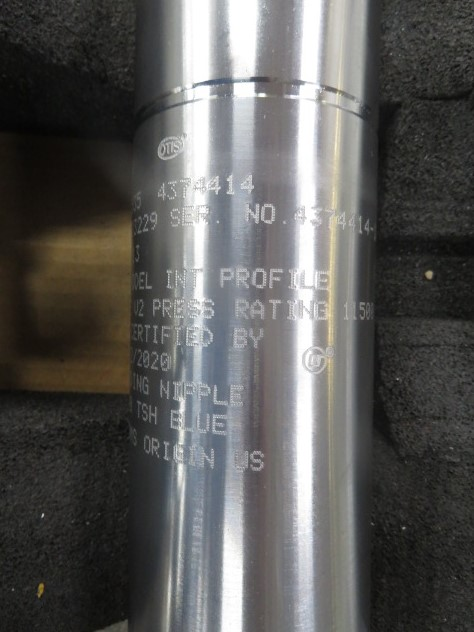character: (235, 169, 258, 199), (258, 202, 280, 231), (243, 199, 262, 229), (196, 447, 218, 472), (316, 268, 335, 295), (311, 201, 327, 233), (233, 297, 252, 323), (231, 450, 251, 474), (248, 326, 265, 354), (195, 201, 213, 227), (229, 382, 247, 408), (208, 170, 223, 201), (235, 267, 252, 293), (292, 202, 308, 229), (218, 267, 234, 294), (299, 268, 317, 292), (210, 412, 228, 436), (298, 297, 315, 322), (223, 168, 238, 196), (251, 449, 267, 474), (212, 385, 230, 407), (324, 204, 338, 232), (178, 410, 195, 433), (173, 442, 190, 465), (182, 205, 198, 229), (269, 266, 283, 293), (335, 208, 350, 233), (188, 266, 203, 291), (268, 297, 283, 322), (196, 410, 211, 435), (250, 299, 266, 322), (234, 324, 248, 350), (253, 266, 268, 290), (314, 299, 330, 321), (202, 297, 216, 321), (200, 326, 214, 350), (196, 384, 212, 405), (174, 268, 188, 291), (181, 380, 195, 403), (187, 298, 202, 319), (185, 326, 200, 347), (168, 410, 183, 431), (158, 379, 171, 403), (284, 299, 297, 322), (175, 297, 188, 319), (187, 444, 199, 467), (287, 266, 298, 290), (170, 380, 181, 403), (164, 266, 174, 291), (150, 297, 161, 319), (162, 297, 173, 318), (173, 325, 183, 347)
